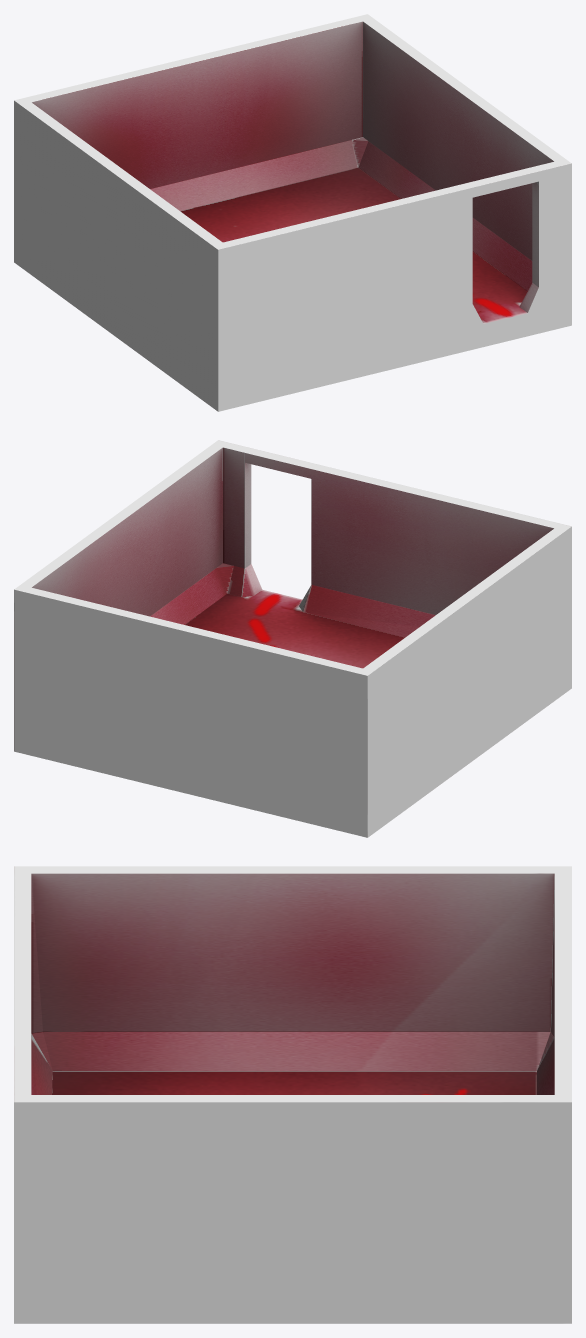
Rendered from housewithtexture.obj.
The picture shows the model from 3 angles, top to bottom: view 1: azimuth 30°, elevation 25°; view 2: azimuth 150°, elevation 25°; view 3: azimuth 270°, elevation 25°; orthographic projection. The views are drawn at different scales.
Parts seen in each view (by area): view 1: Cube_Cube.001; view 2: Cube_Cube.001; view 3: Cube_Cube.001.
Boxes of the visible parts, left/top/right/bottom form: Cube_Cube.001: left=14, top=14, right=571, bottom=411; Cube_Cube.001: left=14, top=440, right=571, bottom=837; Cube_Cube.001: left=14, top=866, right=571, bottom=1323.
Size of the model in its own units: 16 by 7 by 16.
